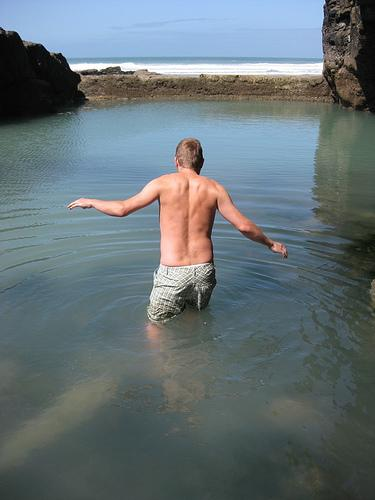human: (70, 136, 288, 328)
